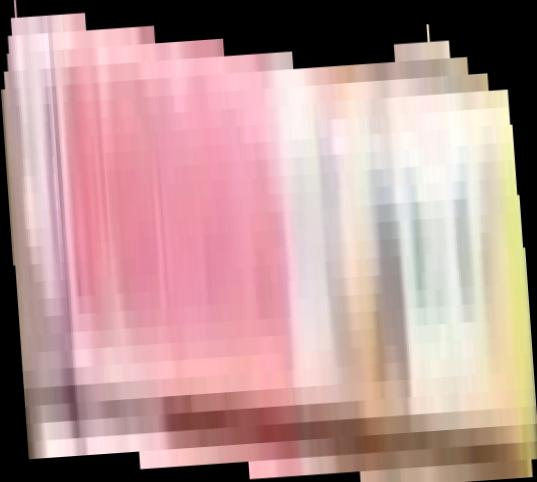flat: (1, 1, 537, 482)
